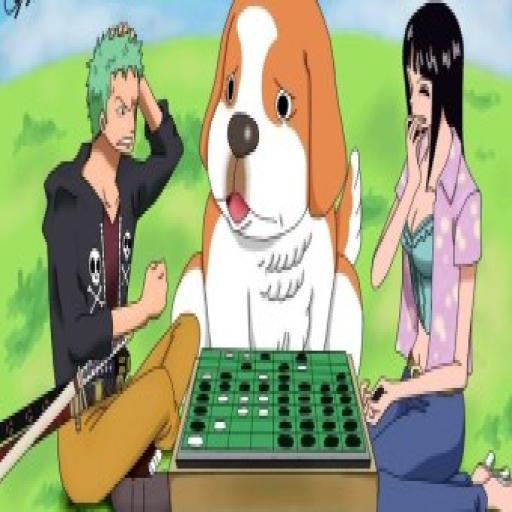NicoRobin: (400, 6, 471, 160)
Zoro: (80, 22, 147, 173)
